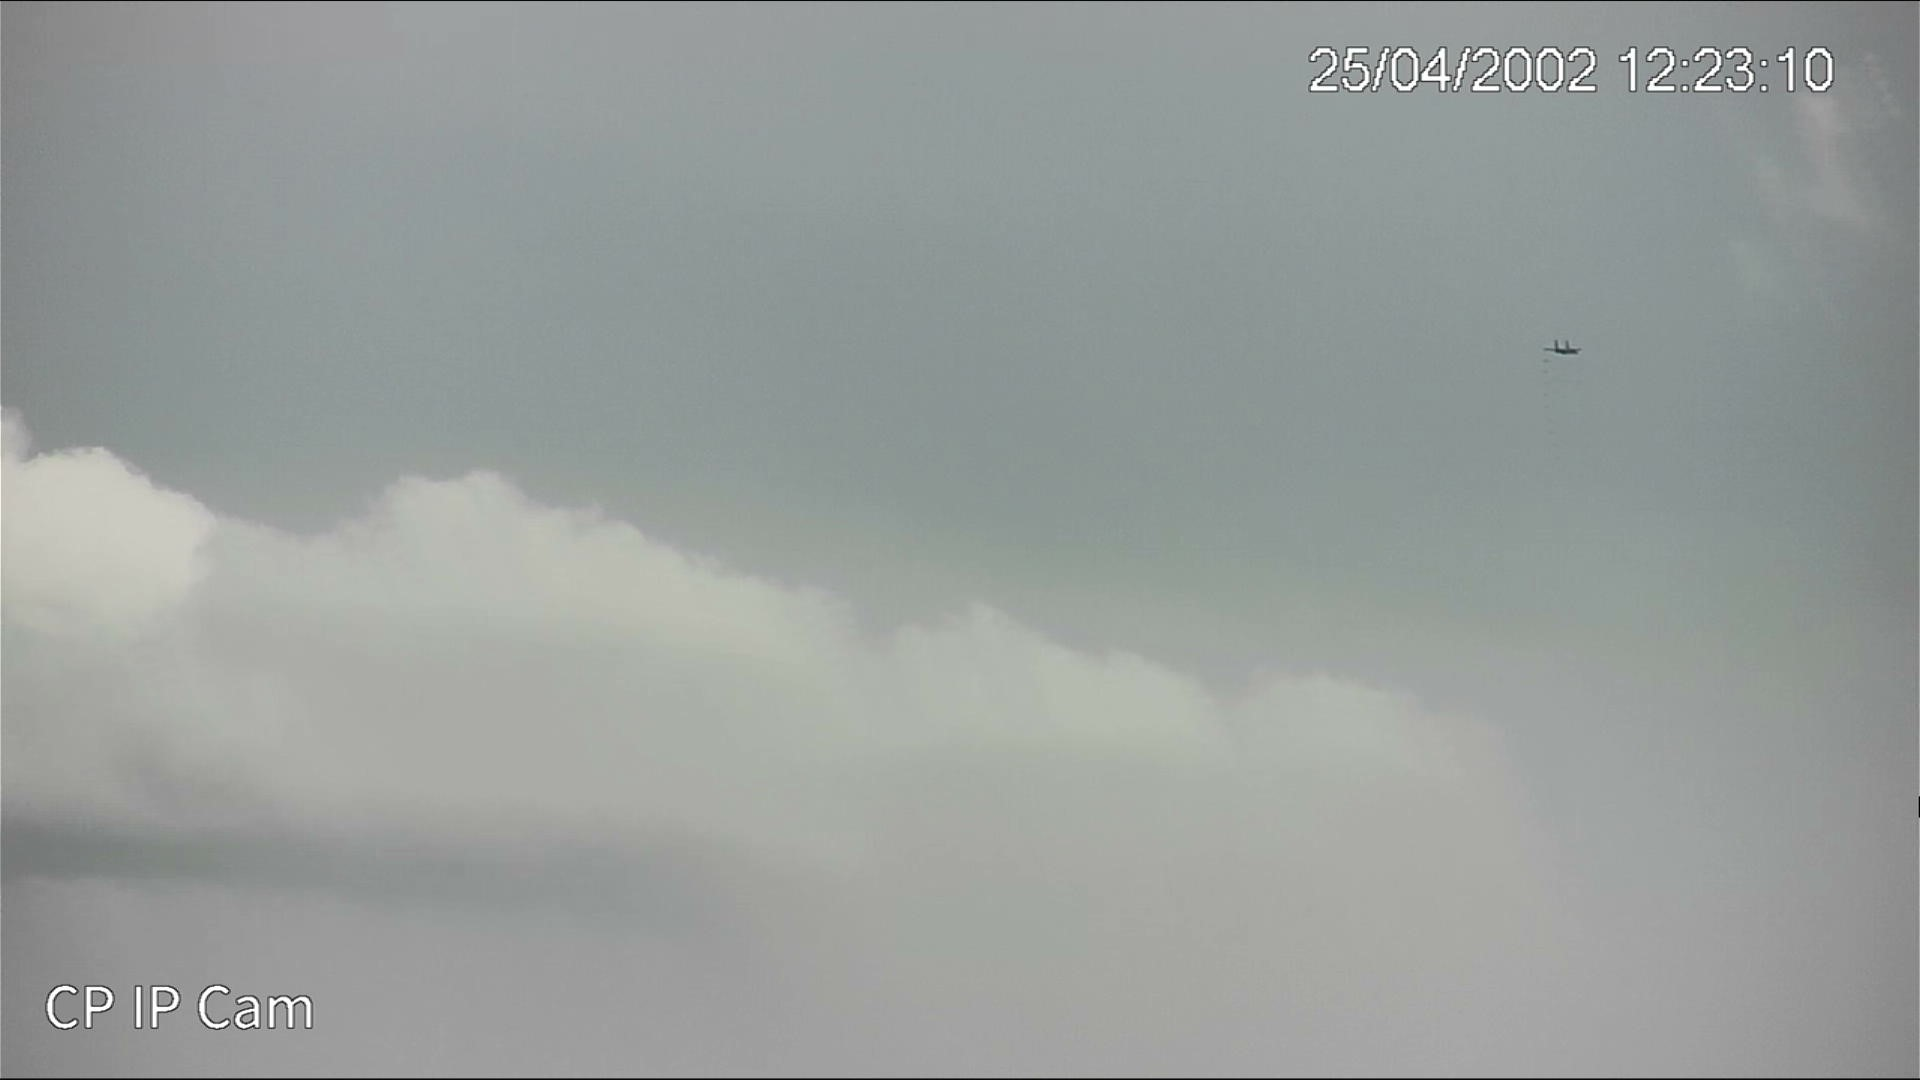SU_30: (1542, 338, 1585, 359)
